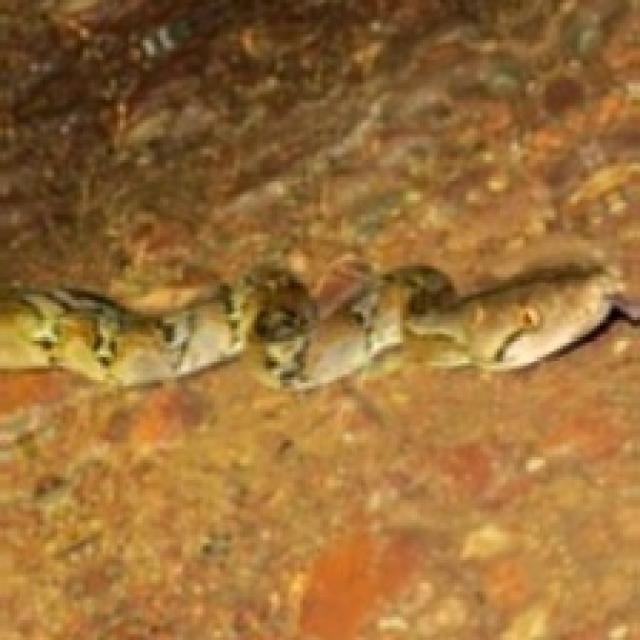reticulated python: (0, 260, 637, 389)
